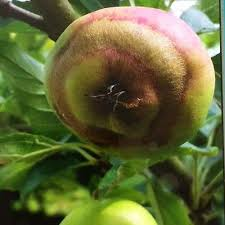damaged_apple: (51, 9, 210, 152)
